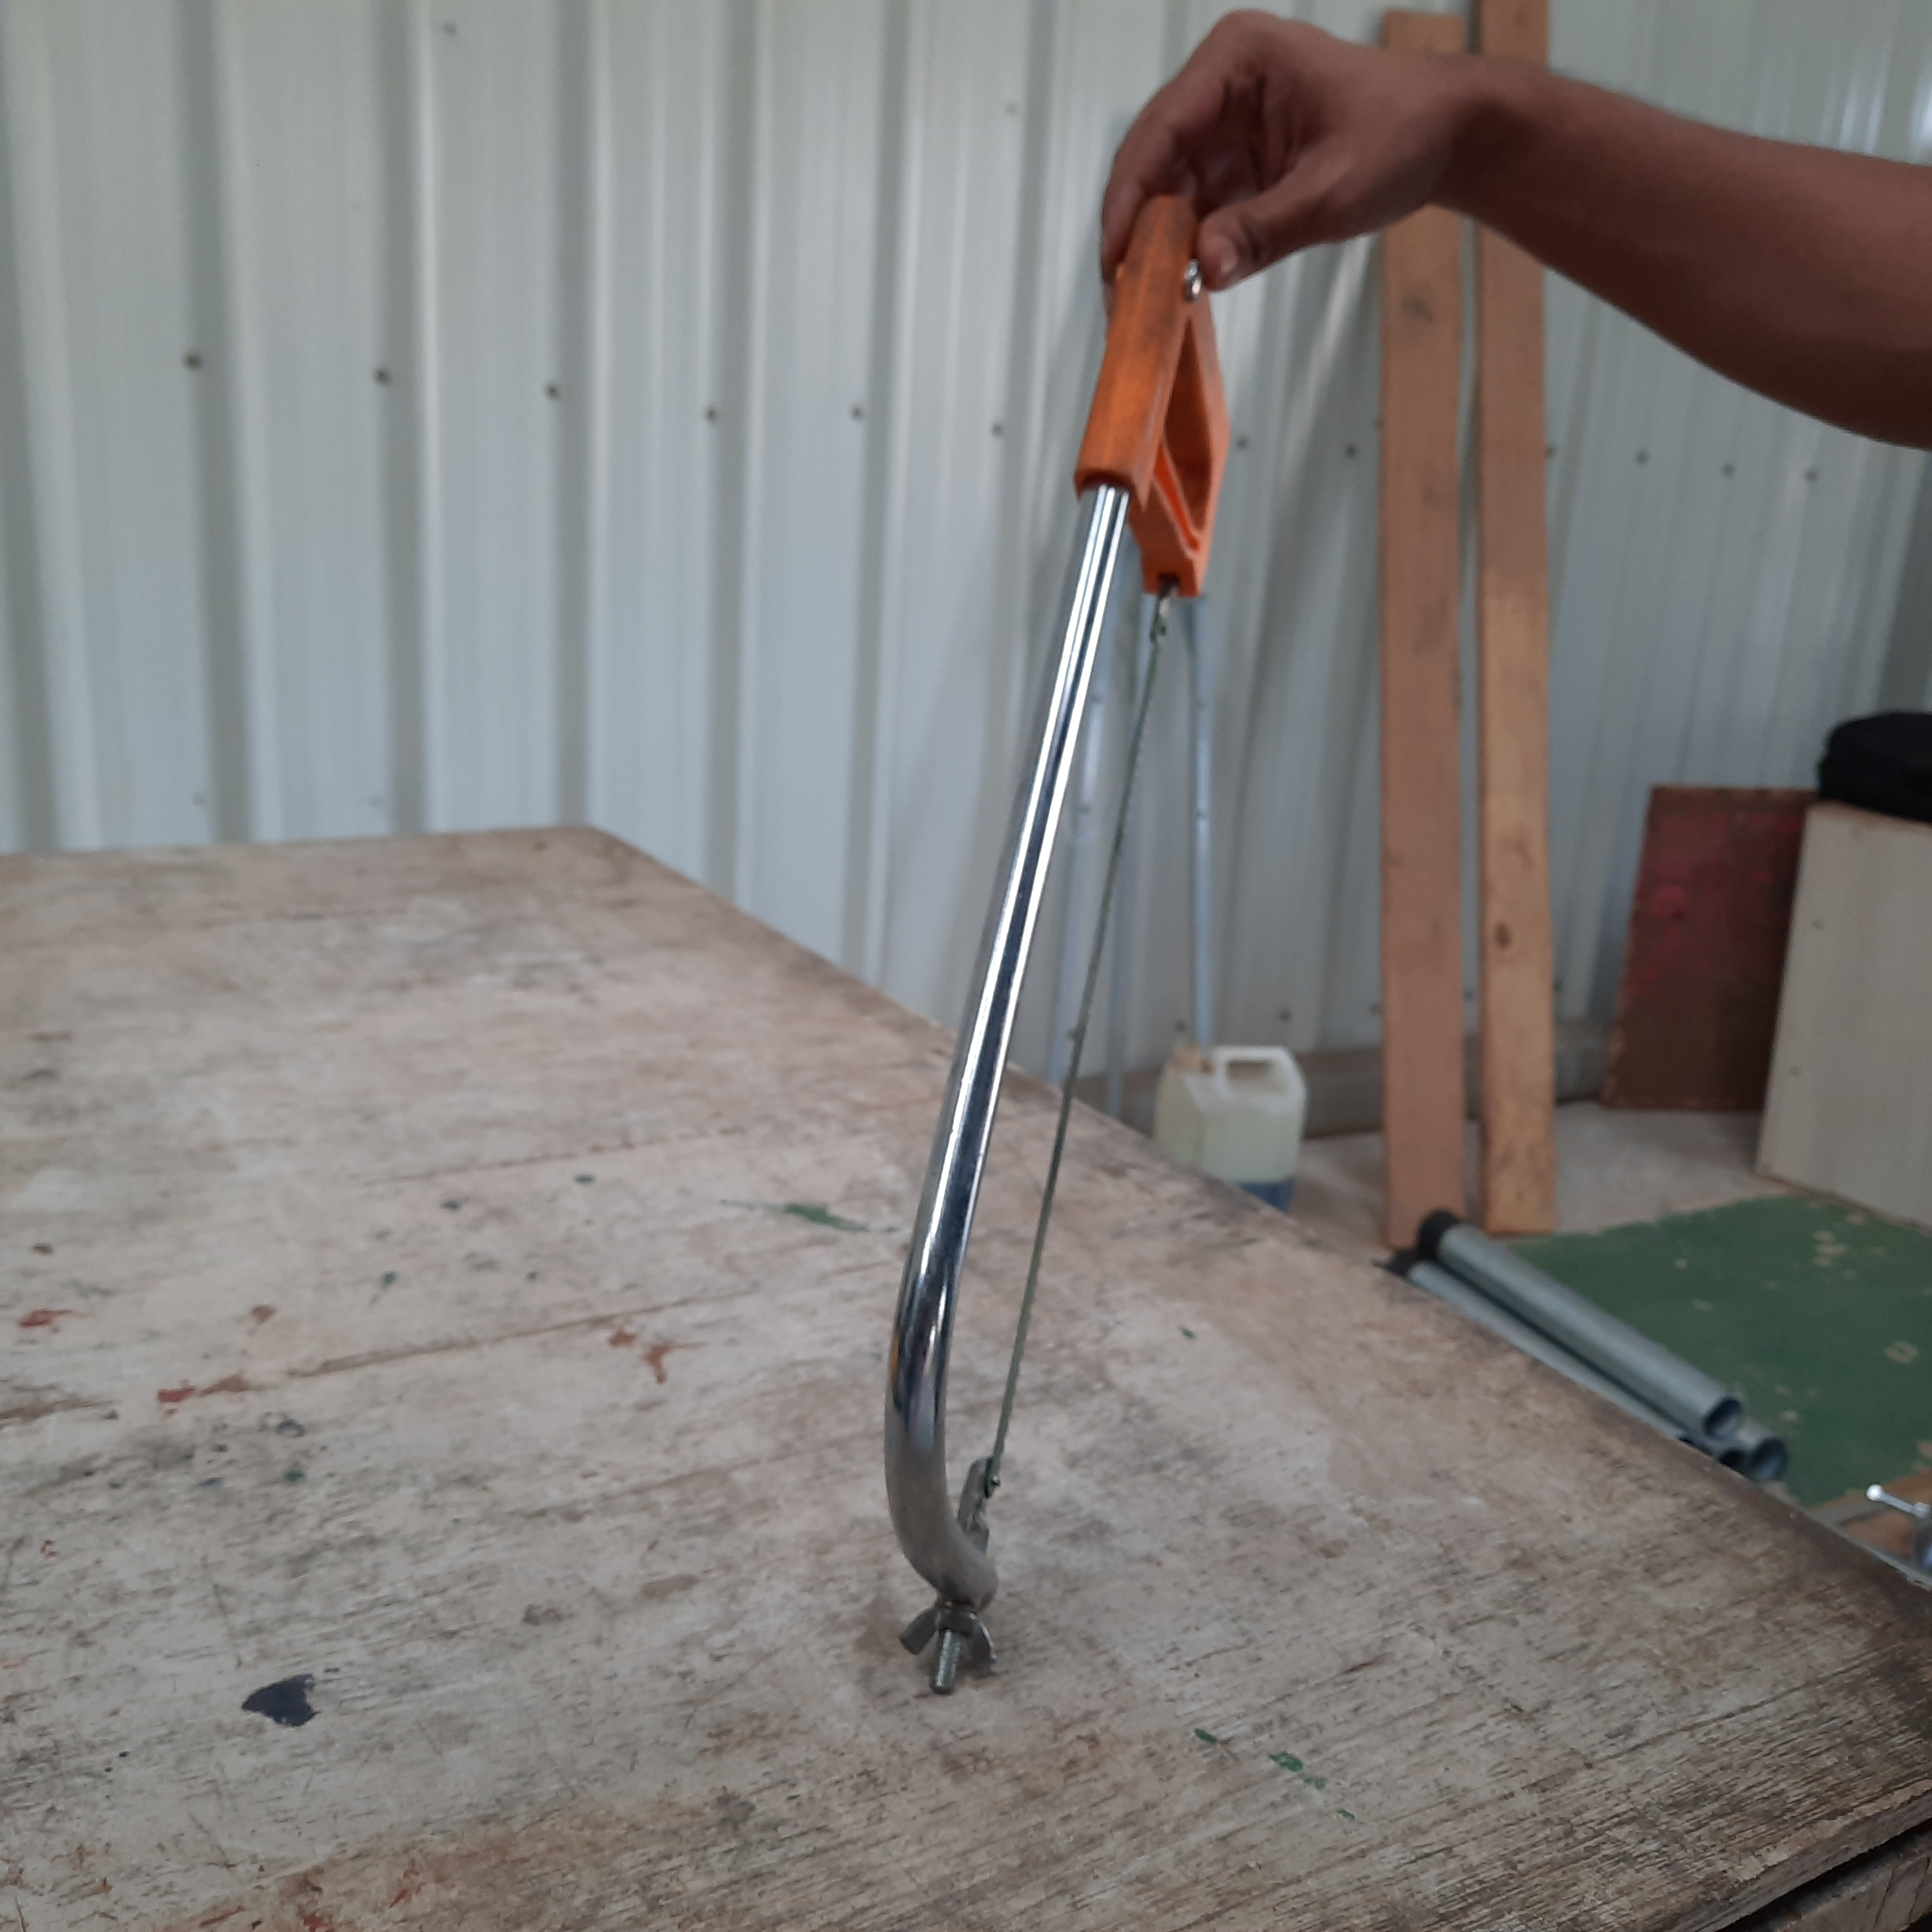Hexaframe: (863, 161, 1286, 1805)
